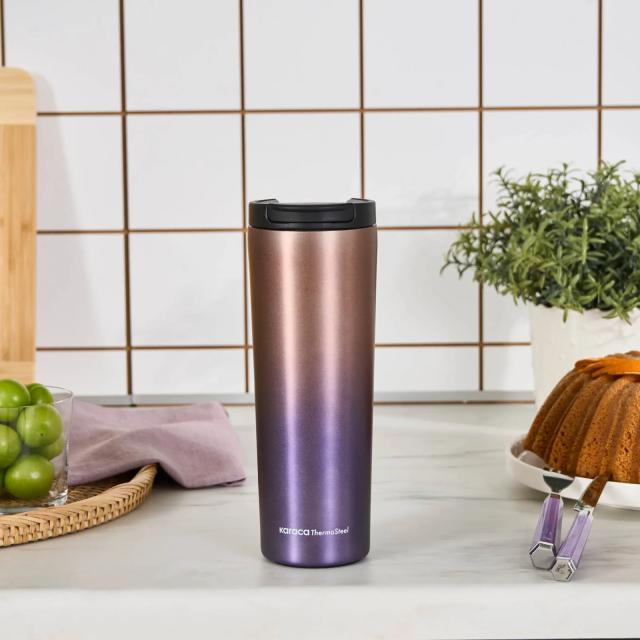Termos: (247, 198, 379, 569)
